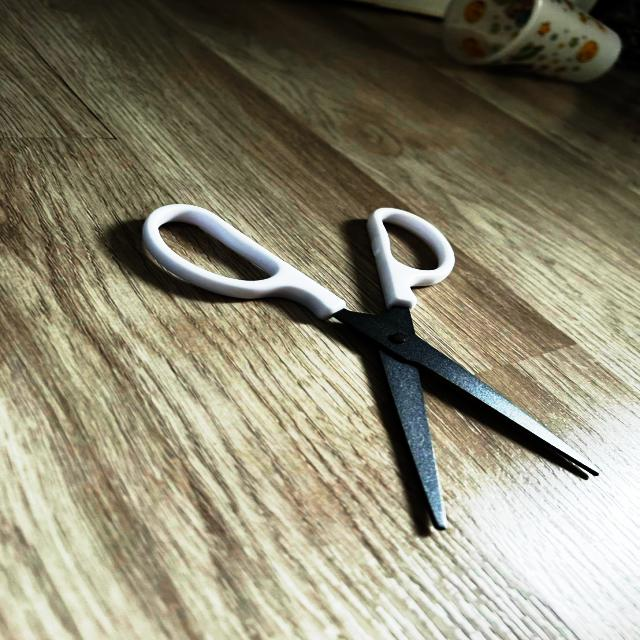Scissors: (142, 204, 598, 529)
